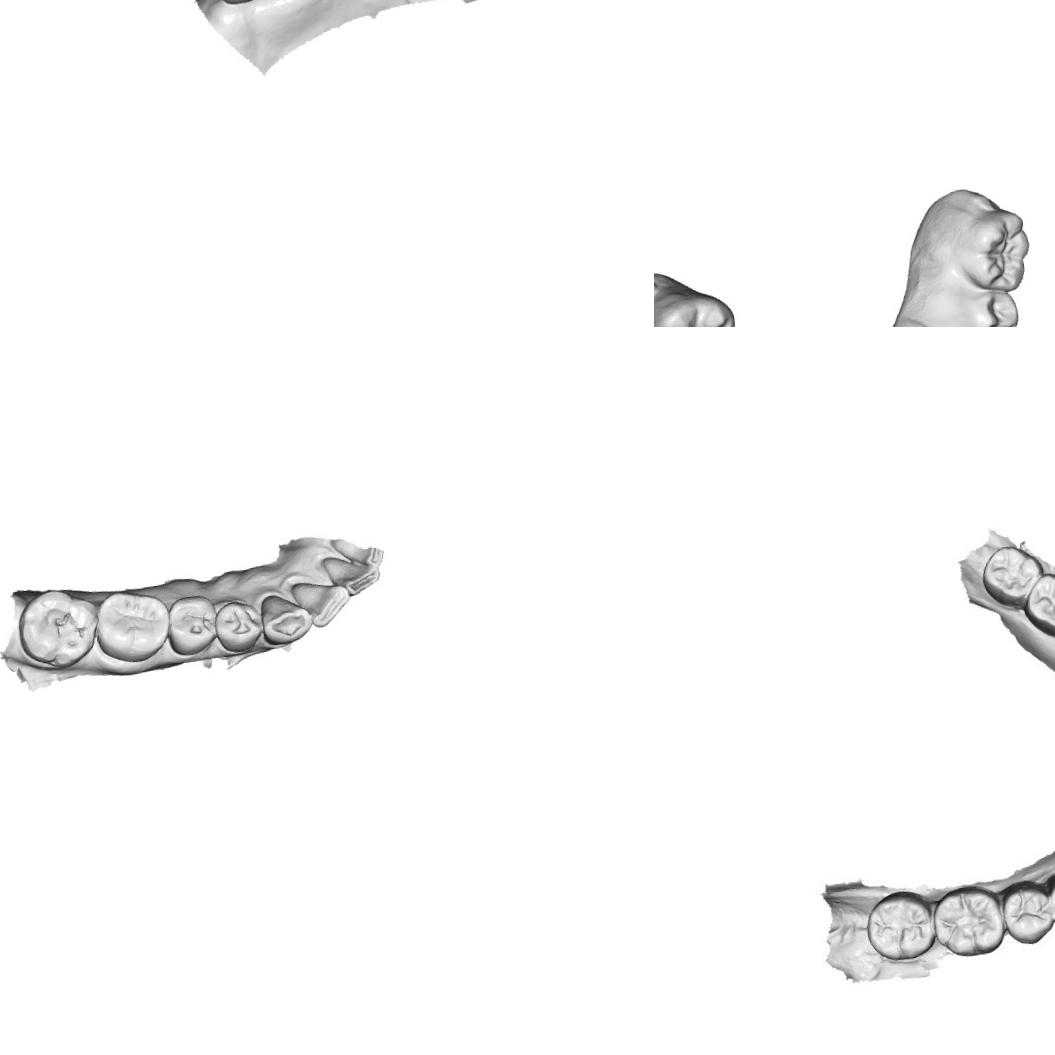canine: (256, 590, 317, 648)
incisor: (288, 574, 356, 631), (321, 549, 384, 600), (337, 530, 388, 576)
molar: (12, 582, 106, 674), (90, 583, 177, 668), (956, 206, 1035, 296), (930, 880, 1009, 960), (862, 886, 938, 965), (975, 538, 1050, 611), (654, 284, 751, 327), (1018, 565, 1055, 634)
premolar: (163, 591, 222, 659), (998, 879, 1055, 947), (210, 596, 266, 655), (960, 279, 1025, 327)
